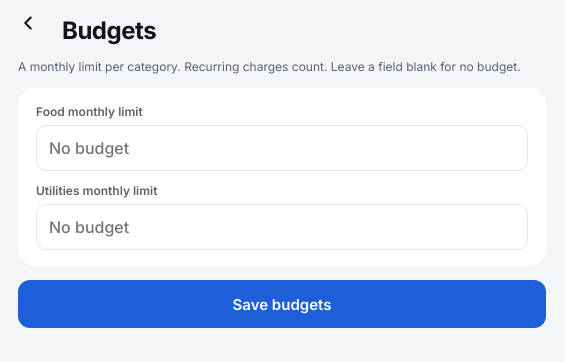
Scenario: Budgets screen › a limit must be a whole NT$ amount above 0
In the field labelled "Food monthly limit": (282, 148) [36,125,528,171], type "12.5"
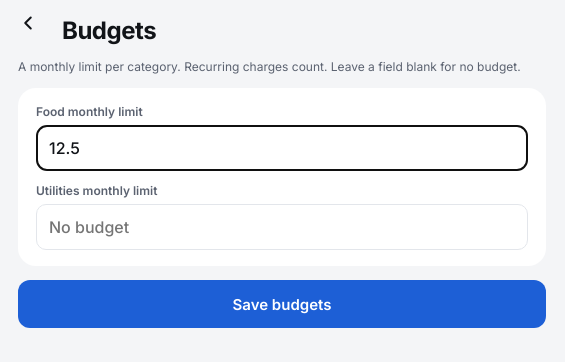
Click the button "Save budgets": (282, 304) [18,280,546,328]
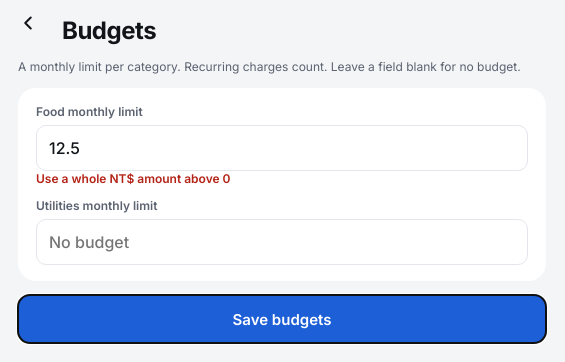
Expected: the text "Use a whole NT$ amount above 0" is shown, [36,171,230,186]
